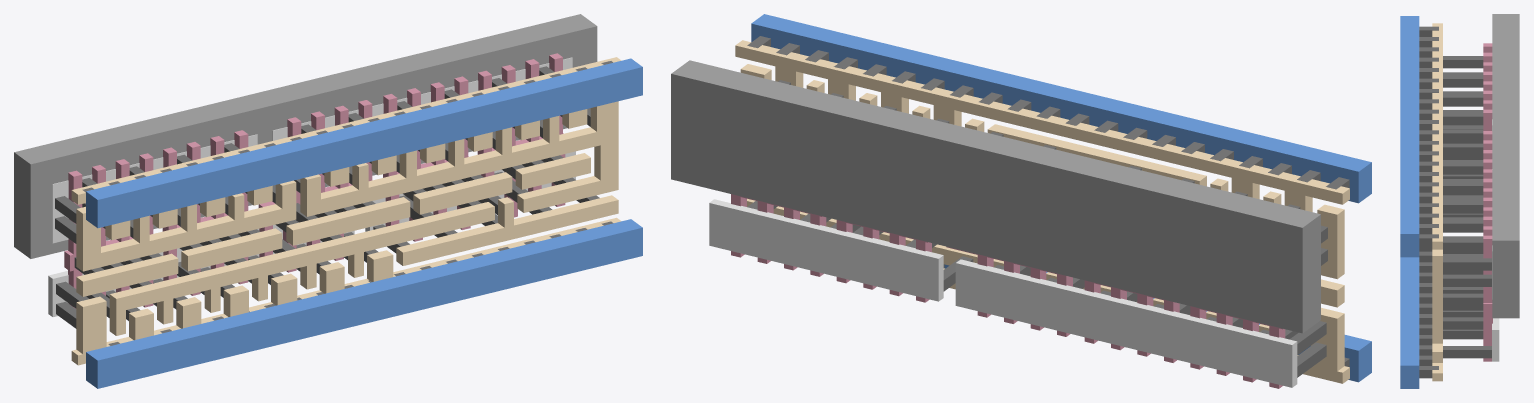
Rendered from sky130_fd_sc_hd__o311ai_4.gds.gltf.
3 renders of one model, left to right at view 1: azimuth 30°, elevation 25°; view 2: azimuth 150°, elevation 25°; view 3: azimuth 270°, elevation 25°, orthographic. The views are drawn at different scales.
Parts seen in each view (by area): view 1: sky130_fd_sc_hd__o311ai_4_li1, sky130_fd_sc_hd__o311ai_4_met1, sky130_fd_sc_hd__o311ai_4_nwell, sky130_fd_sc_hd__o311ai_4_poly, sky130_fd_sc_hd__o311ai_4_licon, sky130_fd_sc_hd__o311ai_4_diff, sky130_fd_sc_hd__o311ai_4_mcon; view 2: sky130_fd_sc_hd__o311ai_4_nwell, sky130_fd_sc_hd__o311ai_4_diff, sky130_fd_sc_hd__o311ai_4_li1, sky130_fd_sc_hd__o311ai_4_met1, sky130_fd_sc_hd__o311ai_4_poly, sky130_fd_sc_hd__o311ai_4_mcon, sky130_fd_sc_hd__o311ai_4_licon; view 3: sky130_fd_sc_hd__o311ai_4_licon, sky130_fd_sc_hd__o311ai_4_nwell, sky130_fd_sc_hd__o311ai_4_met1, sky130_fd_sc_hd__o311ai_4_mcon, sky130_fd_sc_hd__o311ai_4_li1, sky130_fd_sc_hd__o311ai_4_poly, sky130_fd_sc_hd__o311ai_4_diff.
Boxes of the visible parts, bbox=[...] form: sky130_fd_sc_hd__o311ai_4_li1: bbox=[71, 57, 621, 365]; sky130_fd_sc_hd__o311ai_4_met1: bbox=[86, 58, 642, 388]; sky130_fd_sc_hd__o311ai_4_nwell: bbox=[14, 14, 597, 258]; sky130_fd_sc_hd__o311ai_4_poly: bbox=[64, 53, 565, 308]; sky130_fd_sc_hd__o311ai_4_licon: bbox=[55, 66, 599, 328]; sky130_fd_sc_hd__o311ai_4_diff: bbox=[48, 57, 575, 316]; sky130_fd_sc_hd__o311ai_4_mcon: bbox=[82, 61, 613, 345]; sky130_fd_sc_hd__o311ai_4_nwell: bbox=[671, 60, 1320, 333]; sky130_fd_sc_hd__o311ai_4_diff: bbox=[709, 199, 1297, 387]; sky130_fd_sc_hd__o311ai_4_li1: bbox=[735, 40, 1349, 383]; sky130_fd_sc_hd__o311ai_4_met1: bbox=[751, 14, 1371, 382]; sky130_fd_sc_hd__o311ai_4_poly: bbox=[731, 194, 1285, 388]; sky130_fd_sc_hd__o311ai_4_mcon: bbox=[747, 36, 1349, 367]; sky130_fd_sc_hd__o311ai_4_licon: bbox=[747, 80, 1327, 377]; sky130_fd_sc_hd__o311ai_4_licon: bbox=[1443, 56, 1491, 358]; sky130_fd_sc_hd__o311ai_4_nwell: bbox=[1492, 14, 1519, 318]; sky130_fd_sc_hd__o311ai_4_met1: bbox=[1400, 16, 1419, 388]; sky130_fd_sc_hd__o311ai_4_mcon: bbox=[1419, 26, 1438, 378]; sky130_fd_sc_hd__o311ai_4_li1: bbox=[1432, 23, 1442, 381]; sky130_fd_sc_hd__o311ai_4_poly: bbox=[1483, 43, 1492, 361]; sky130_fd_sc_hd__o311ai_4_diff: bbox=[1492, 119, 1499, 361].
Bounding box in the file's own units: 10.04 × 3.2 × 2.24.
